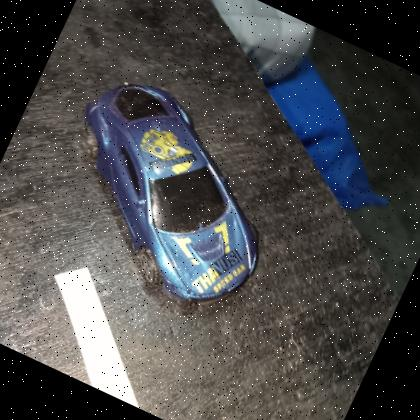Car: (85, 83, 258, 302)
